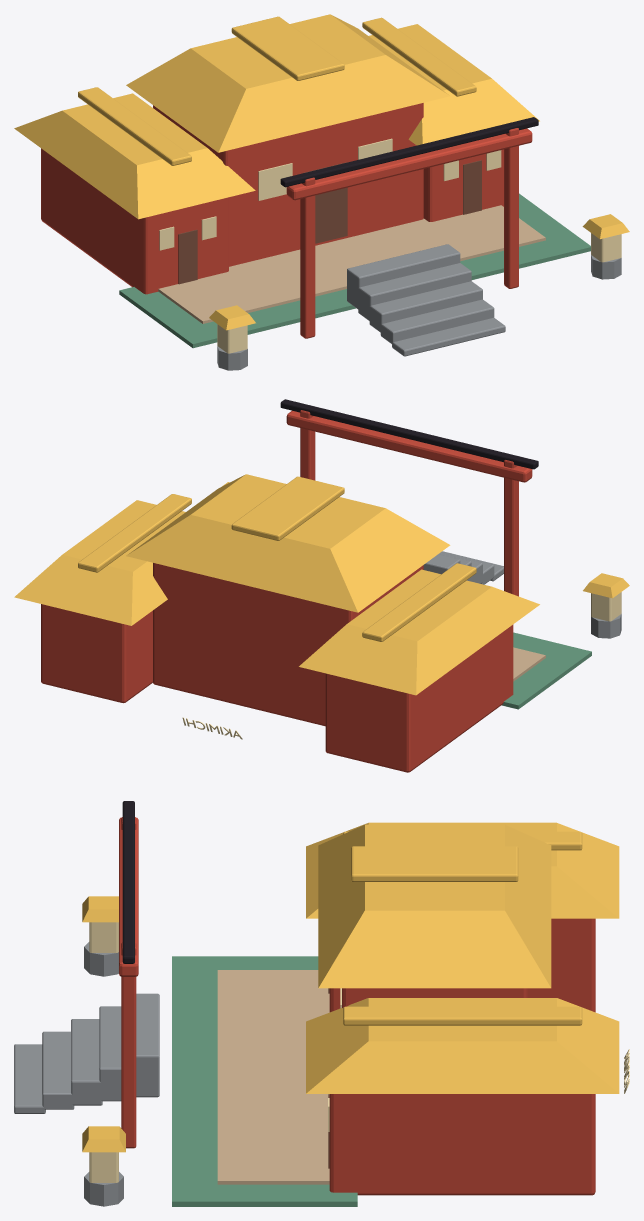
File: 05_akimichi.glb
The picture shows the model from 3 angles, top to bottom: view 1: azimuth 30°, elevation 25°; view 2: azimuth 150°, elevation 25°; view 3: azimuth 270°, elevation 25°; orthographic projection. The views are drawn at different scales.
Visible parts, largest first — view 1: main_body.001; view 2: main_body.001; view 3: main_body.001.
Part boxes in pixels (<box>): main_body.001: <box>14,14,629,370</box>; main_body.001: <box>14,399,629,772</box>; main_body.001: <box>14,801,619,1206</box>.
Bounding box in the file's own units: 12.36 × 5.19 × 12.95.
